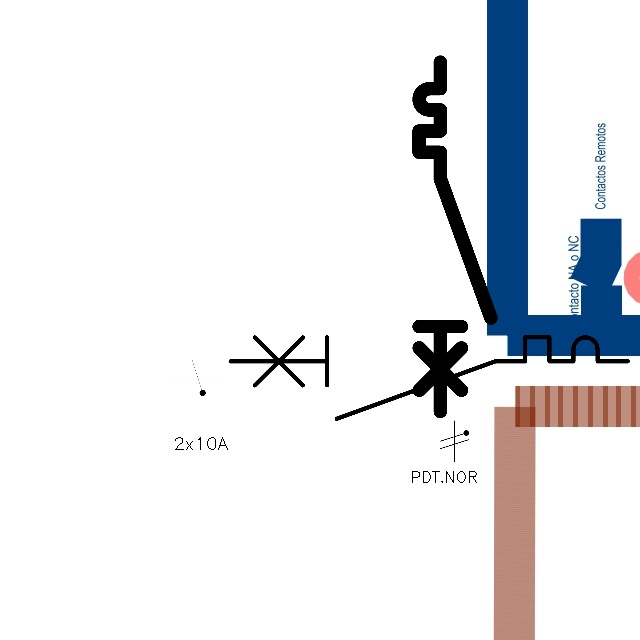interruptor_termomagnetico: (220, 327, 638, 429), (410, 53, 500, 420)
